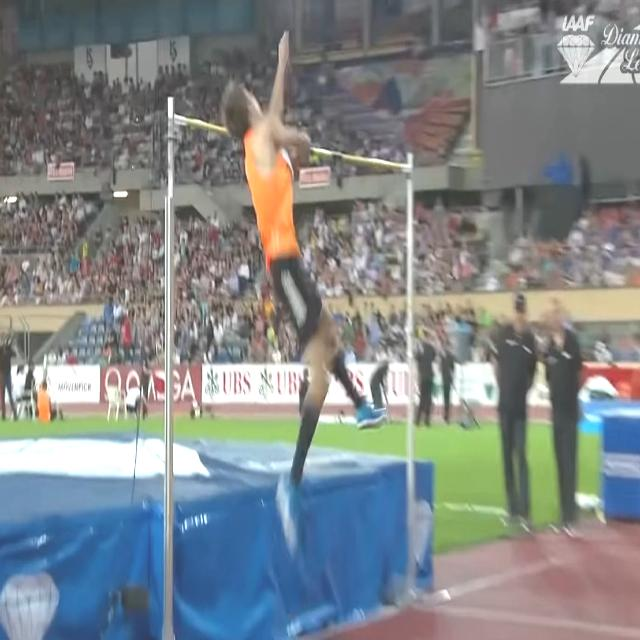jump: (226, 33, 387, 553)
